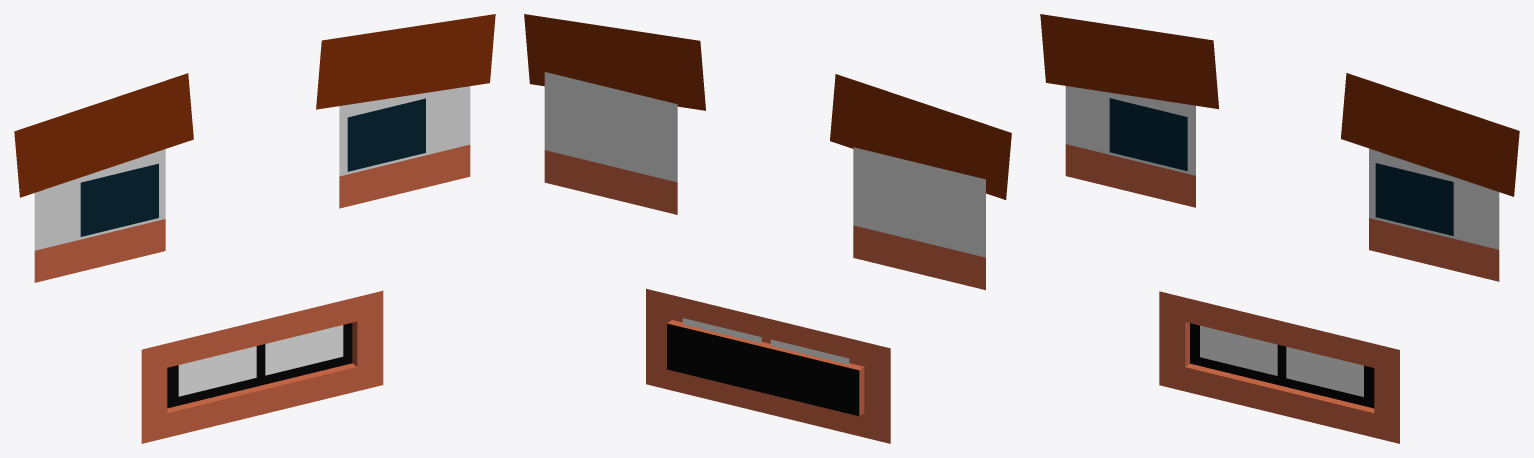
The model's file is Face Male 02.FBX.
3 views of the same model, side by side, from view 1: azimuth 30°, elevation 25°; view 2: azimuth 150°, elevation 25°; view 3: azimuth 330°, elevation 25° (orthographic).
Parts seen in each view (by area): view 1: Face Male 02; view 2: Face Male 02; view 3: Face Male 02.
Part boxes in pixels (x1,y1,x2,y2): Face Male 02: [14, 14, 495, 443]; Face Male 02: [524, 14, 1011, 443]; Face Male 02: [1040, 14, 1519, 443].
Size of the model in its own units: 43.83 by 30.96 by 1.01.
1 material, 1 textured.
